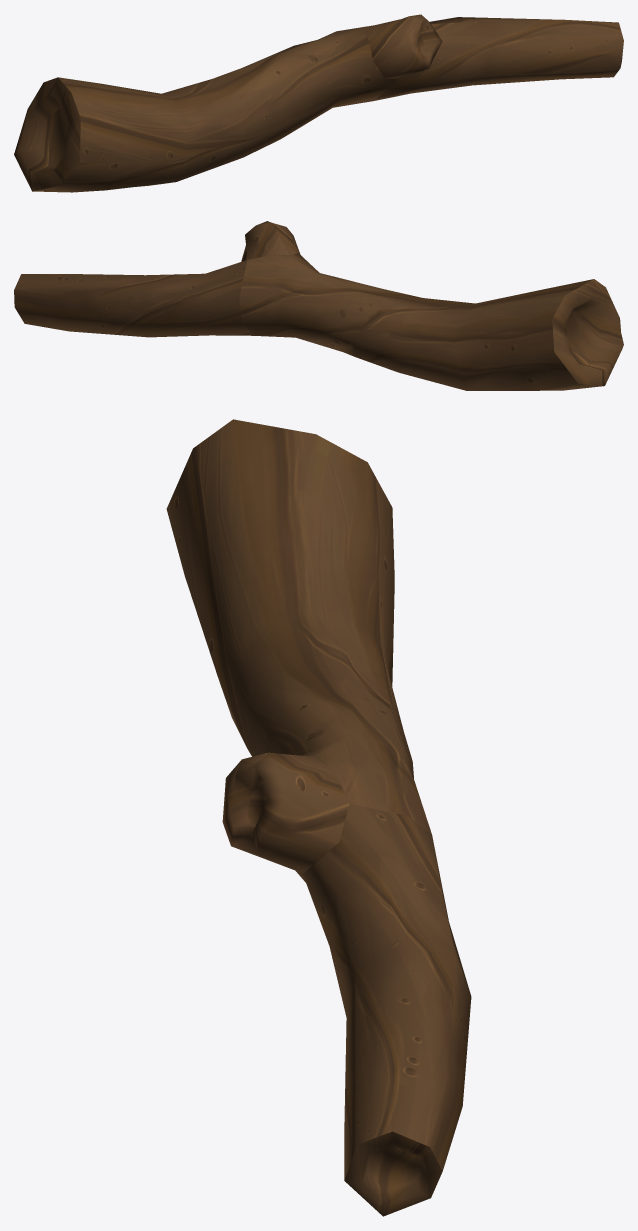
Rendered from prop_trunk.FBX.
3 views of the same model, one above another, from view 1: azimuth 30°, elevation 25°; view 2: azimuth 150°, elevation 25°; view 3: azimuth 270°, elevation 25° (orthographic). The views are drawn at different scales.
Parts seen in each view (by area): view 1: prop_trunk; view 2: prop_trunk; view 3: prop_trunk.
Boxes of the visible parts, box(x1,y1,x2,y2) form: prop_trunk: box(14, 14, 623, 192); prop_trunk: box(14, 221, 623, 390); prop_trunk: box(166, 419, 471, 1216).
Size of the model in its own units: 11.32 by 2.75 by 2.68.
